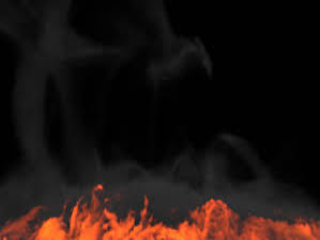fire: (7, 191, 319, 238)
